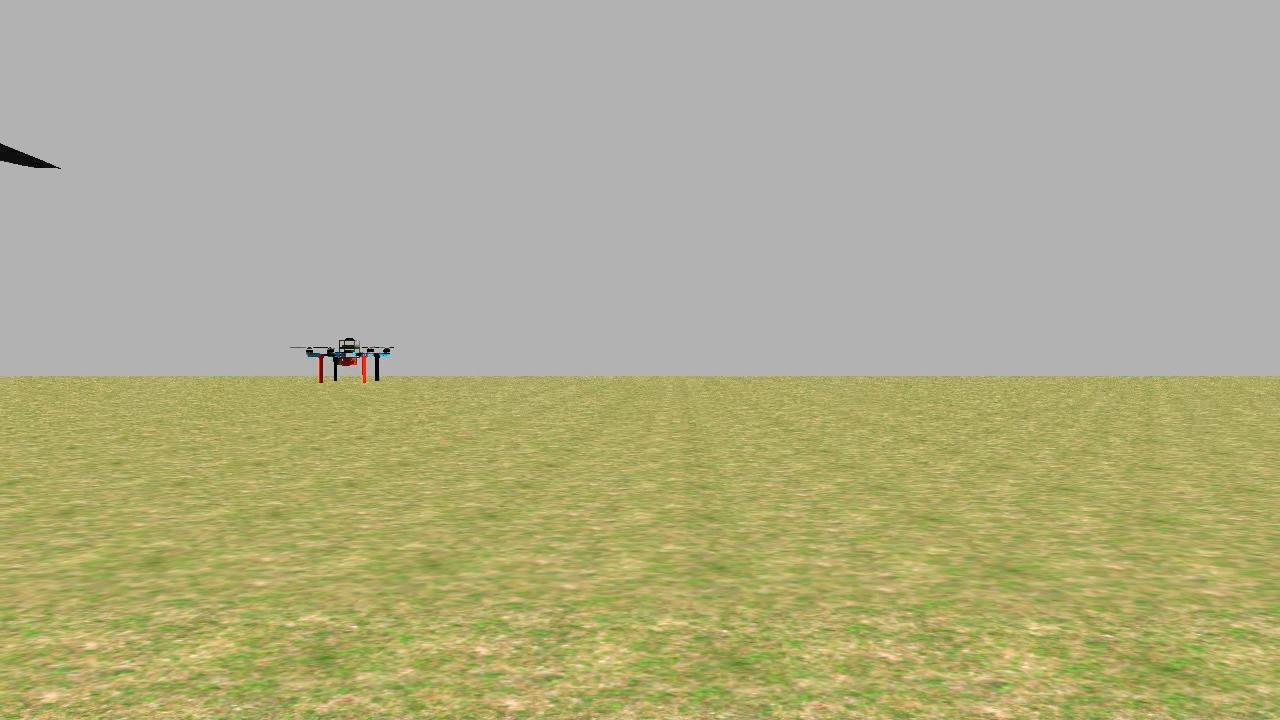UAV: (305, 334, 397, 395)
